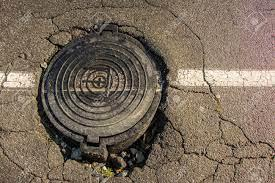closed manhole-not overflowing-: (34, 23, 171, 171)
